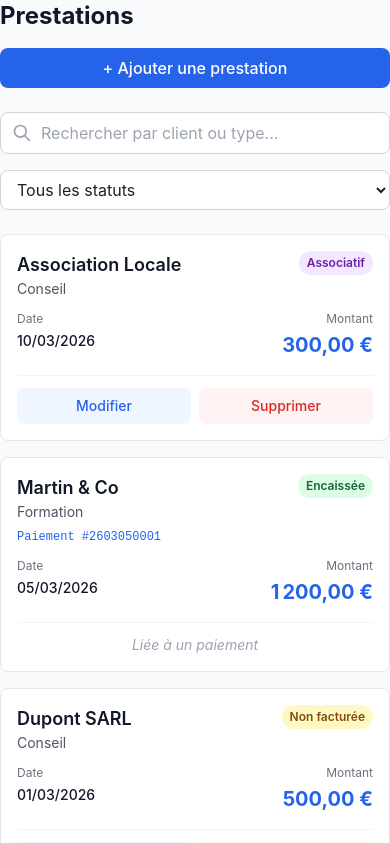
it: Prestations page › opens the edit modal when clicking Modifier
Step 1. Click the button "Modifier" below "300,00 €" → [104, 406], box [17,388,191,424]
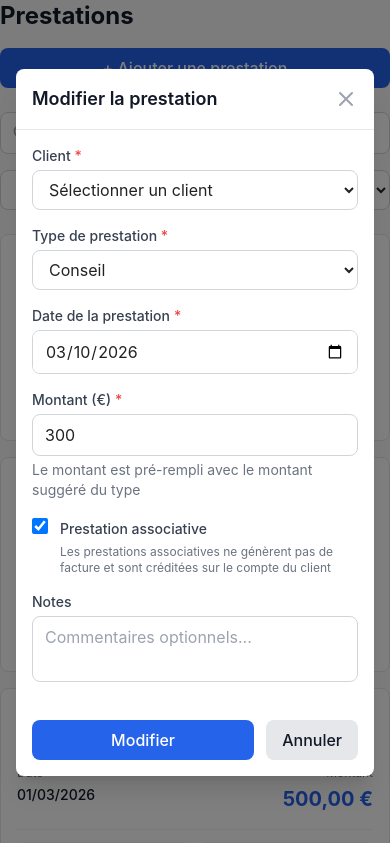
expect the heading "Modifier la prestation" is shown: met, box [32,84,218,112]
